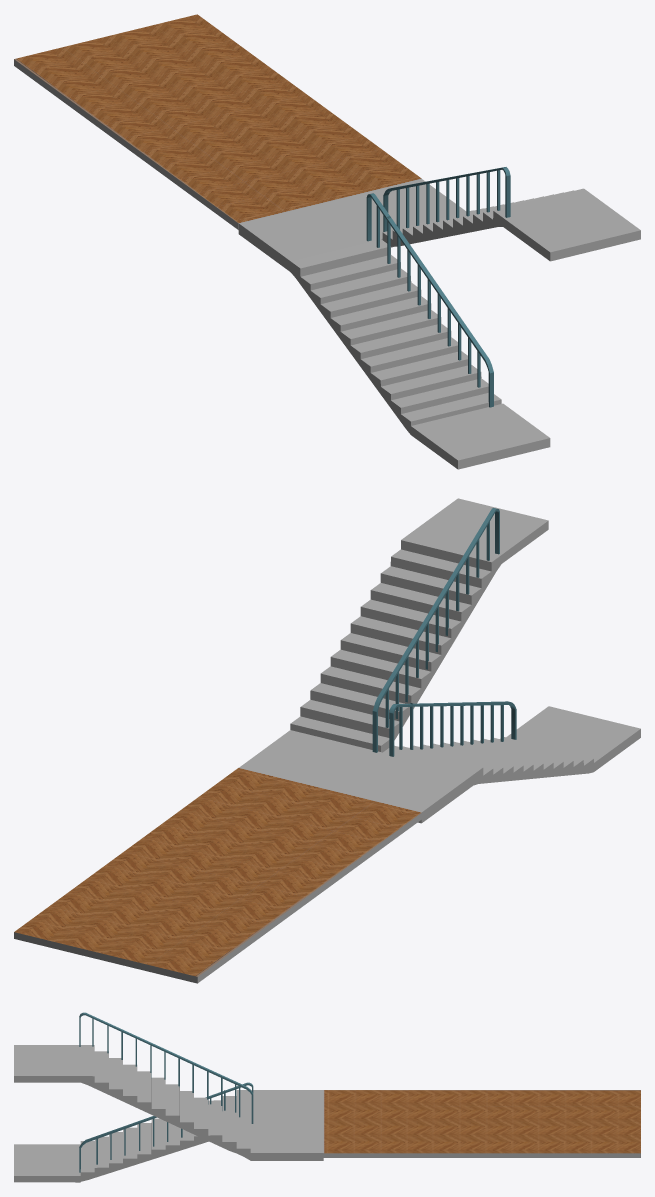
The model's file is Floor_stairs_type1.FBX.
3 views of the same model, one above another, from view 1: azimuth 30°, elevation 25°; view 2: azimuth 150°, elevation 25°; view 3: azimuth 270°, elevation 25° (orthographic). The views are drawn at different scales.
Visible parts, largest first — view 1: Floor_stairs_type1_005; view 2: Floor_stairs_type1_005; view 3: Floor_stairs_type1_005.
Part boxes in pixels (x1,y1,x2,y2): Floor_stairs_type1_005: [14, 14, 640, 469]; Floor_stairs_type1_005: [14, 498, 640, 983]; Floor_stairs_type1_005: [14, 1012, 640, 1182].
Size of the model in its own units: 723 by 911 by 3029.
